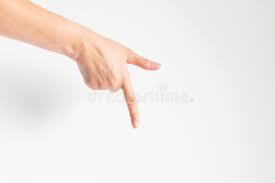Point-Down: (62, 33, 166, 132)
